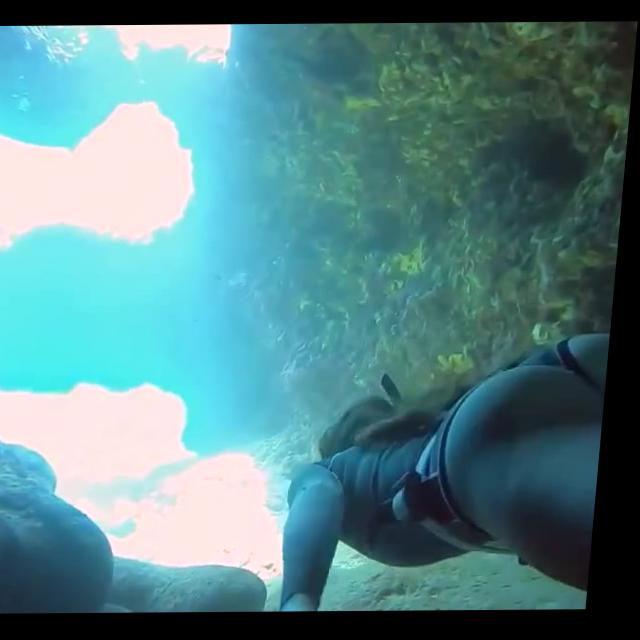human: (251, 299, 619, 612)
